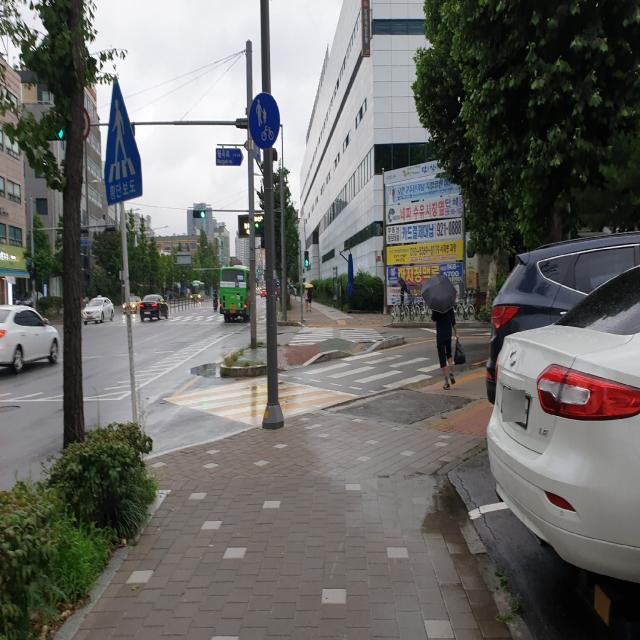초록불: (304, 250, 312, 270)
횡단보도: (302, 350, 456, 390), (290, 316, 386, 350)
